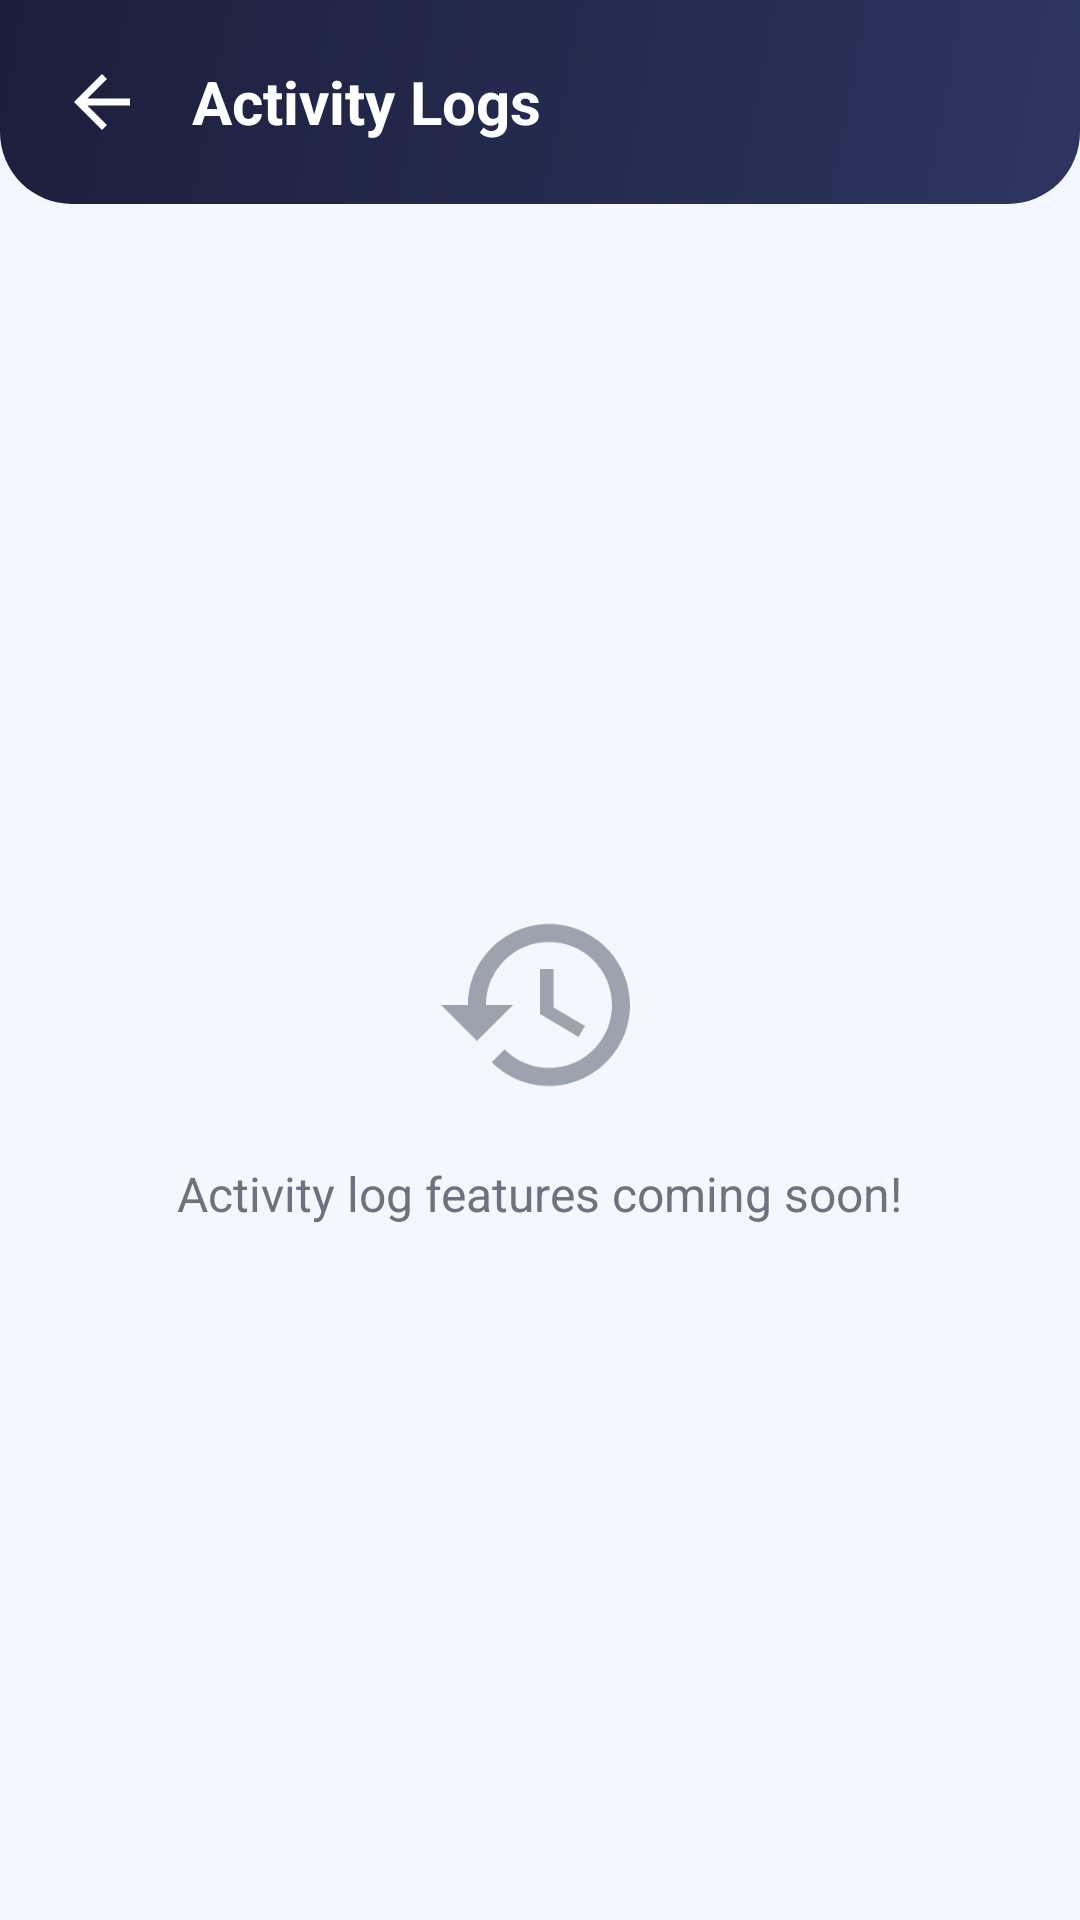

Where icons sit on this 1080*1920 app screen, as rect(x1, y1, x2, y2):
Activity Logs: rect(441, 924, 630, 1086)
Go back: rect(74, 74, 130, 130)
